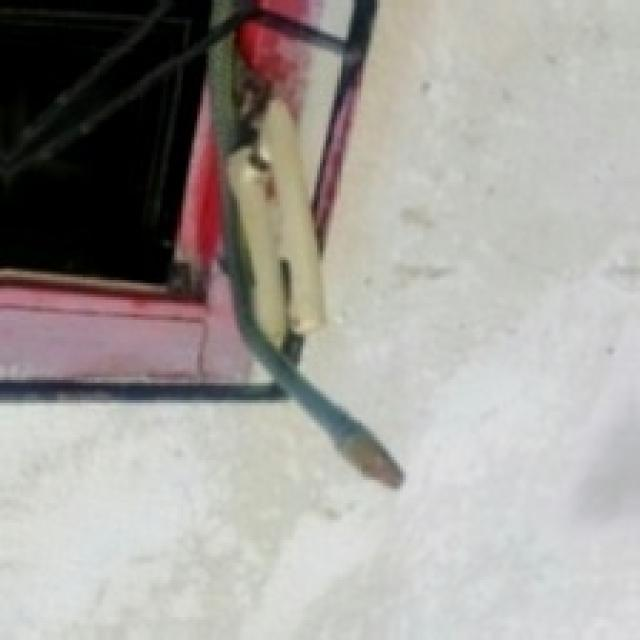paradise tree snake: (0, 0, 400, 486), (209, 0, 400, 486)
